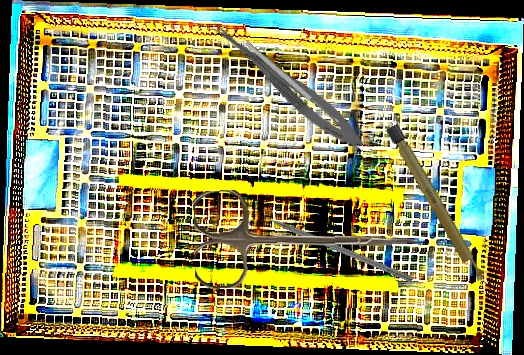Hook Surgical: (251, 207, 415, 283)
Iris Scissors: (193, 187, 419, 289)
Micro Scissor: (202, 16, 371, 156)
Scalpel Handle: (385, 123, 487, 285)
Surgical Spoon: (243, 39, 341, 126)
